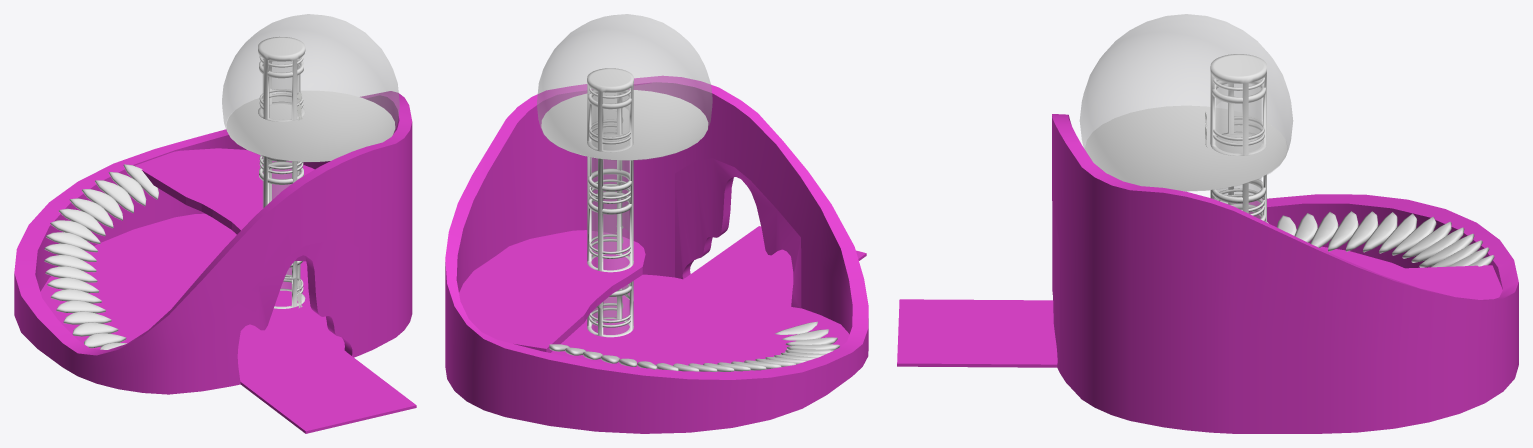
Rendered from G_MochiMuseum_Proxy_v03_StepsAndFloor.fbx.
3 renders of one model, left to right at view 1: azimuth 30°, elevation 25°; view 2: azimuth 150°, elevation 25°; view 3: azimuth 270°, elevation 25°, orthographic. The views are drawn at different scales.
Parts seen in each view (by area): view 1: Cube.011, Cube.019, Cube.012, Plane, Cube.023, Cube.009, Cylinder, Cylinder.001; view 2: Cube.011, Cube.012, Cube.019, Cube.009, Cylinder, Plane, Cylinder.001, Cube.023; view 3: Cube.011, Cube.012, Plane, Cube.019, Cube.023, Cylinder, Cube.009, Cylinder.001.
Boxes of the visible parts, x1,y1,x2,y2 form: Cube.011: (14,91,412,394); Cube.019: (40,213,416,433); Cube.012: (222,14,399,162); Plane: (226,90,395,161); Cube.023: (44,164,158,349); Cube.009: (135,148,314,261); Cylinder: (258,36,305,308); Cylinder.001: (262,58,300,304); Cube.011: (445,75,868,433); Cube.012: (537,14,712,160); Cube.019: (551,226,866,371); Cube.009: (459,230,645,352); Cylinder: (587,68,633,337); Plane: (541,90,708,160); Cylinder.001: (591,89,629,334); Cube.023: (549,321,839,371); Cube.011: (1052,114,1518,433); Cube.012: (1079,14,1293,191); Plane: (1085,105,1287,191); Cube.019: (897,246,1404,367); Cube.023: (1267,211,1494,267); Cylinder: (1210,54,1266,222); Cube.009: (1371,265,1502,299); Cylinder.001: (1215,79,1261,218).
Size of the model in its own units: 7660 by 6360 by 10152.
